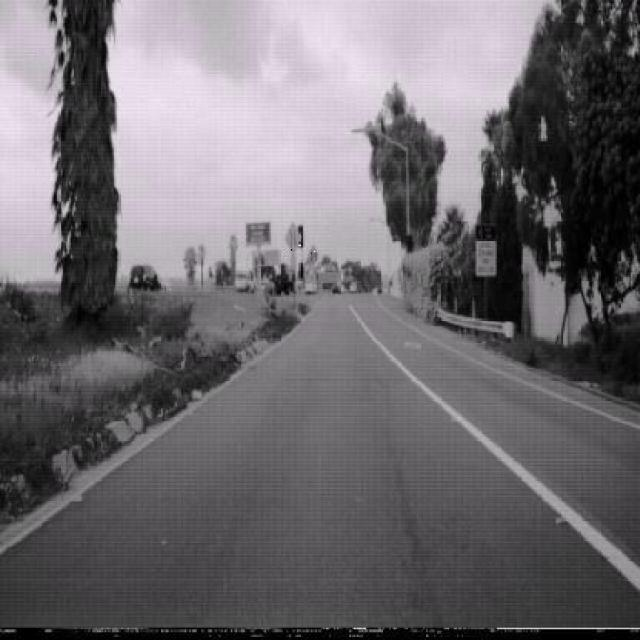addedLane: (308, 243, 319, 268)
laneEnds: (283, 218, 302, 252)
